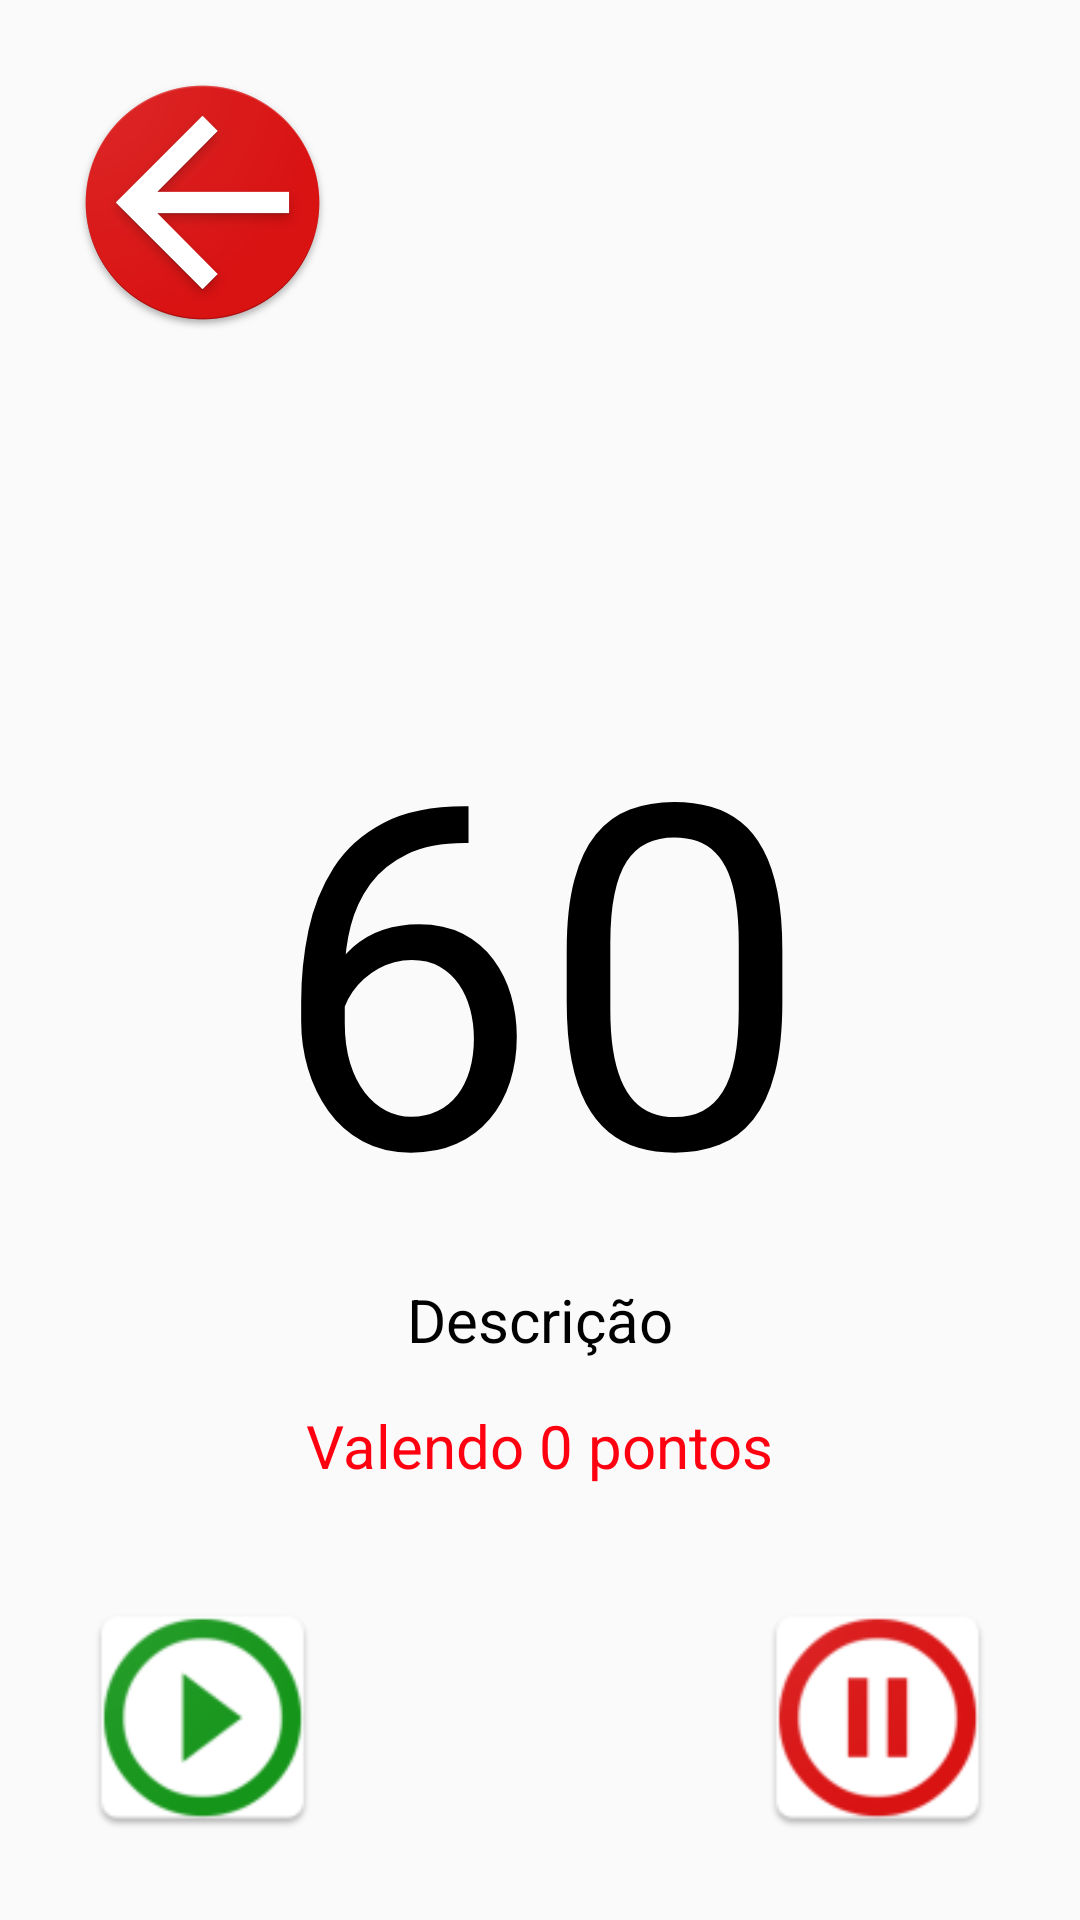

Where icons sit on this 1080*1920 app screen, as (x1, y1, x2, y2):
pause: (776, 1618, 980, 1824)
play: (101, 1618, 305, 1824)
voltar: (84, 85, 321, 325)
